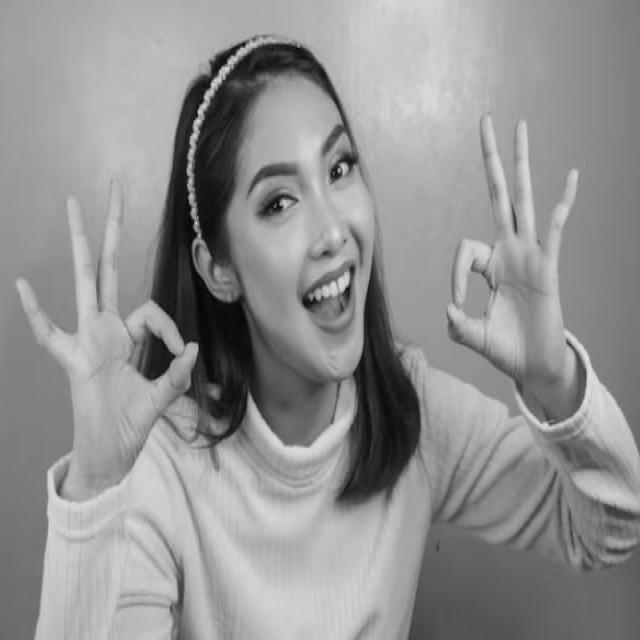perfect: (10, 168, 202, 514), (441, 104, 584, 397)
